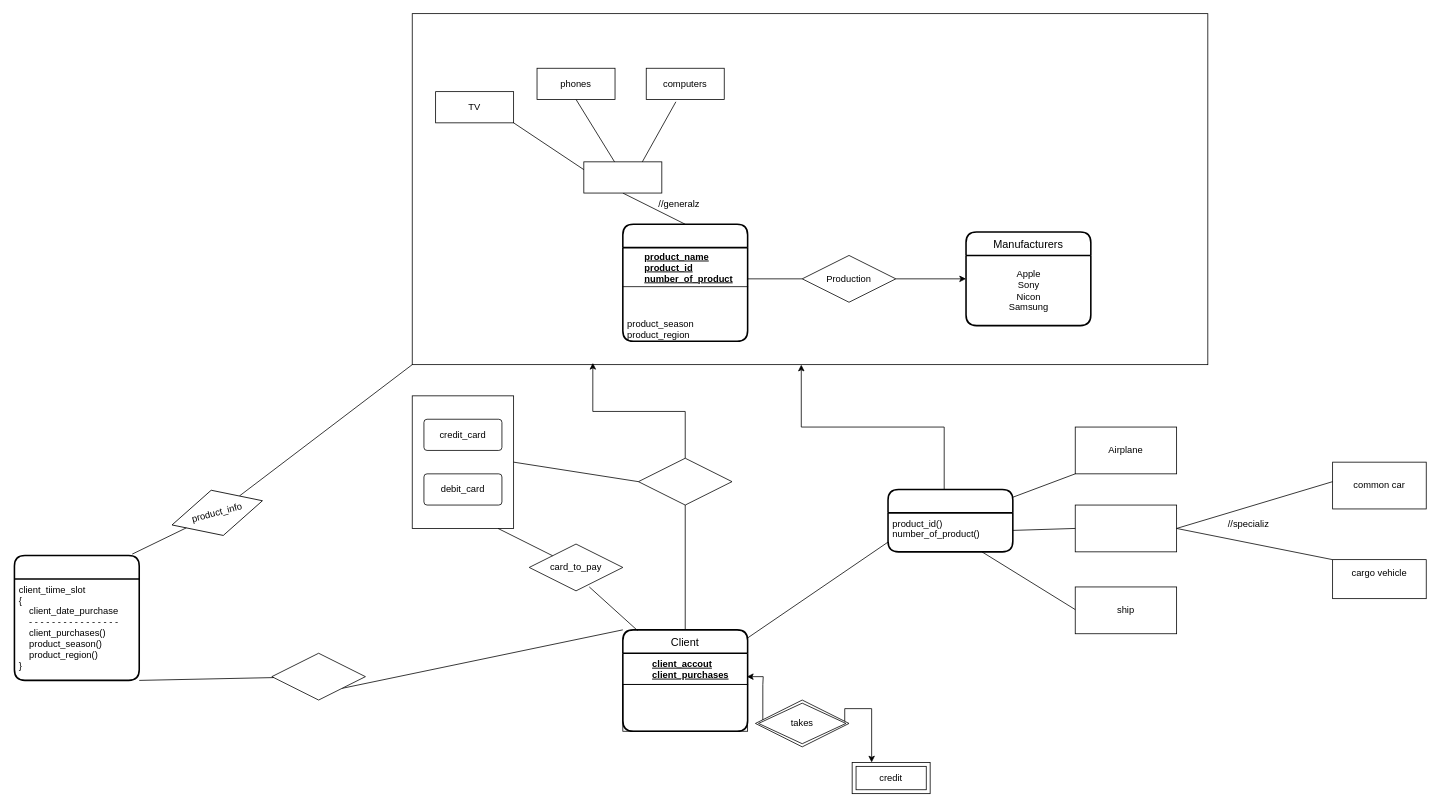
Image size: 1440x807. Some labels were removed from this diagram. The shapes that lost their labels are listed below. From the top down, each one's box as (x1, y1, x2, y2) in pixels, then its label:
(583, 161, 662, 193): electronic
(622, 223, 748, 342): electronic_product
(638, 457, 732, 505): purchases
(887, 488, 1013, 552): transportation
(1074, 504, 1177, 552): car
(13, 554, 140, 681): time_slot
(271, 652, 365, 700): purchases_info
(622, 684, 748, 731): client_bonuses client_bills
